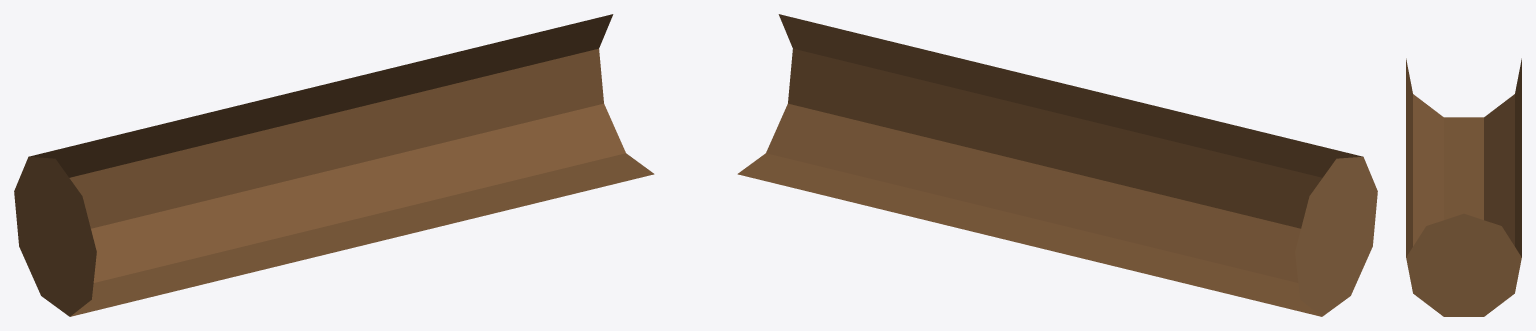
File: vegetation-fallen-log.glb
3 renders of one model, left to right at view 1: azimuth 30°, elevation 25°; view 2: azimuth 150°, elevation 25°; view 3: azimuth 270°, elevation 25°, orthographic. The views are drawn at different scales.
Parts seen in each view (by area): view 1: vegetation-fallen-log; view 2: vegetation-fallen-log; view 3: vegetation-fallen-log.
Boxes of the visible parts, box(x1,y1,x2,y2) form: vegetation-fallen-log: box(14, 14, 654, 316); vegetation-fallen-log: box(737, 14, 1377, 316); vegetation-fallen-log: box(1406, 58, 1521, 316).
Bounding box in the file's own units: 2.25 × 0.5431 × 0.5515.
